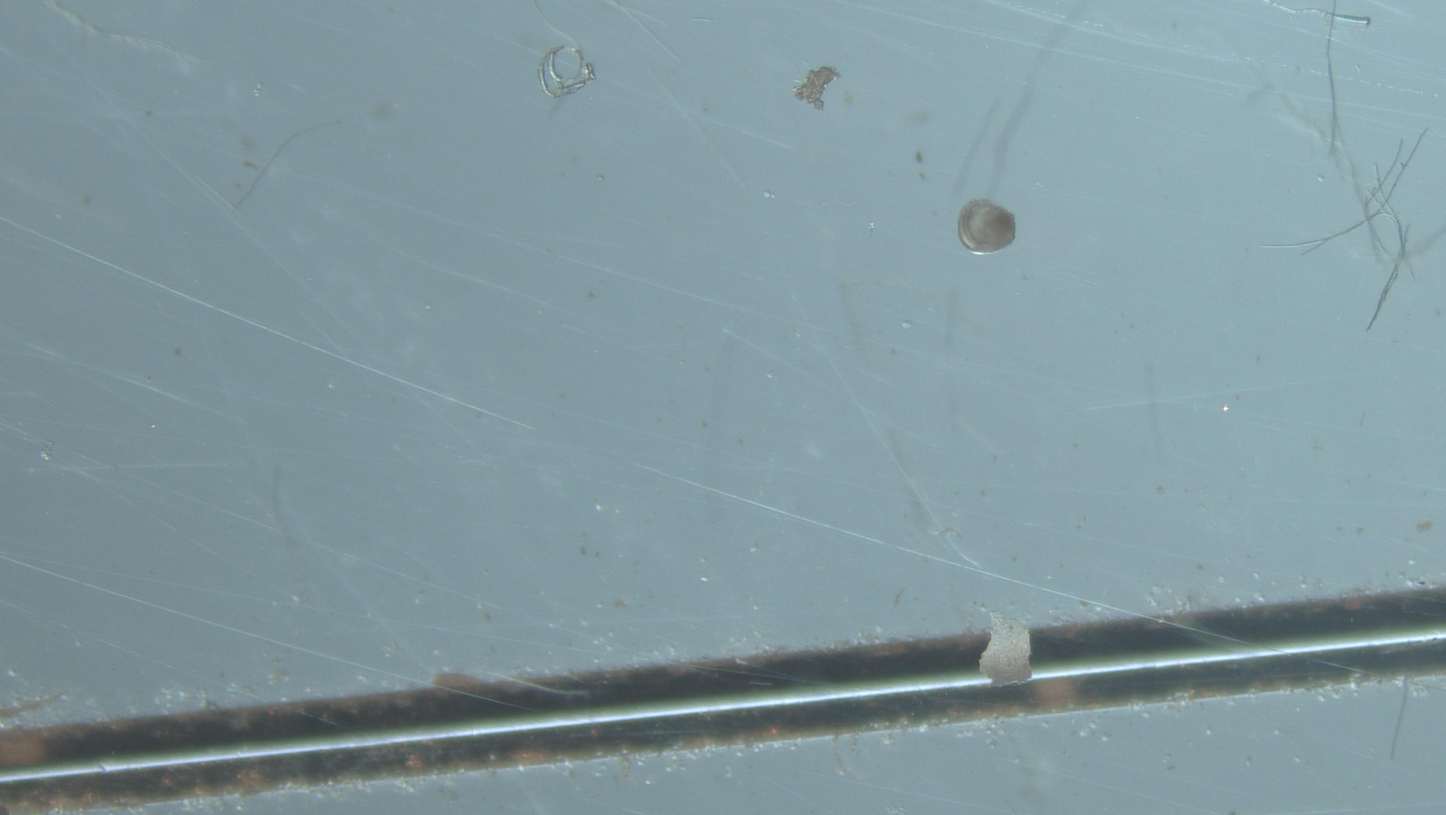live: (957, 200, 1016, 254)
